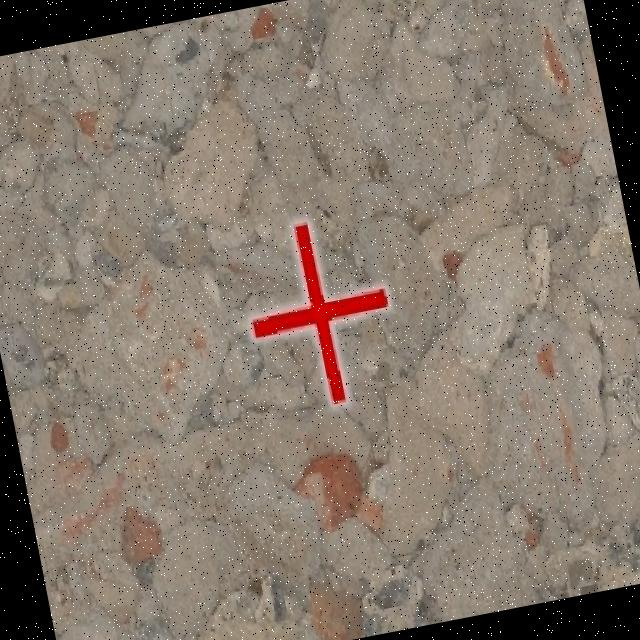x_marker: (233, 208, 404, 416)
